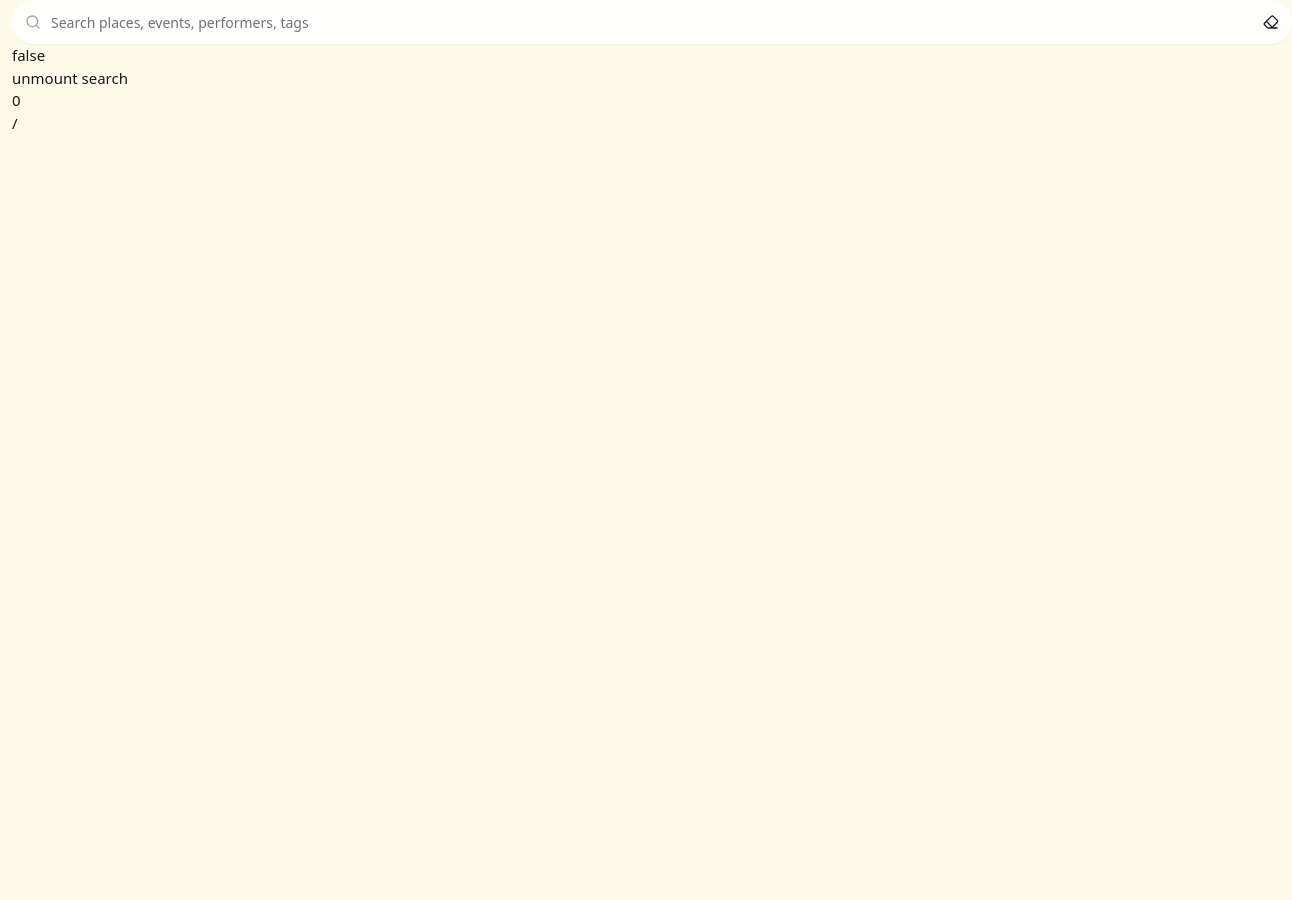
Scenario: SearchBar › focuses the place (its card opens) when picking on the map
Type "techno" into the dropdown labelled "Search" at coordinates (652, 22), box [49, 10, 1255, 34]
Wait 300 ms
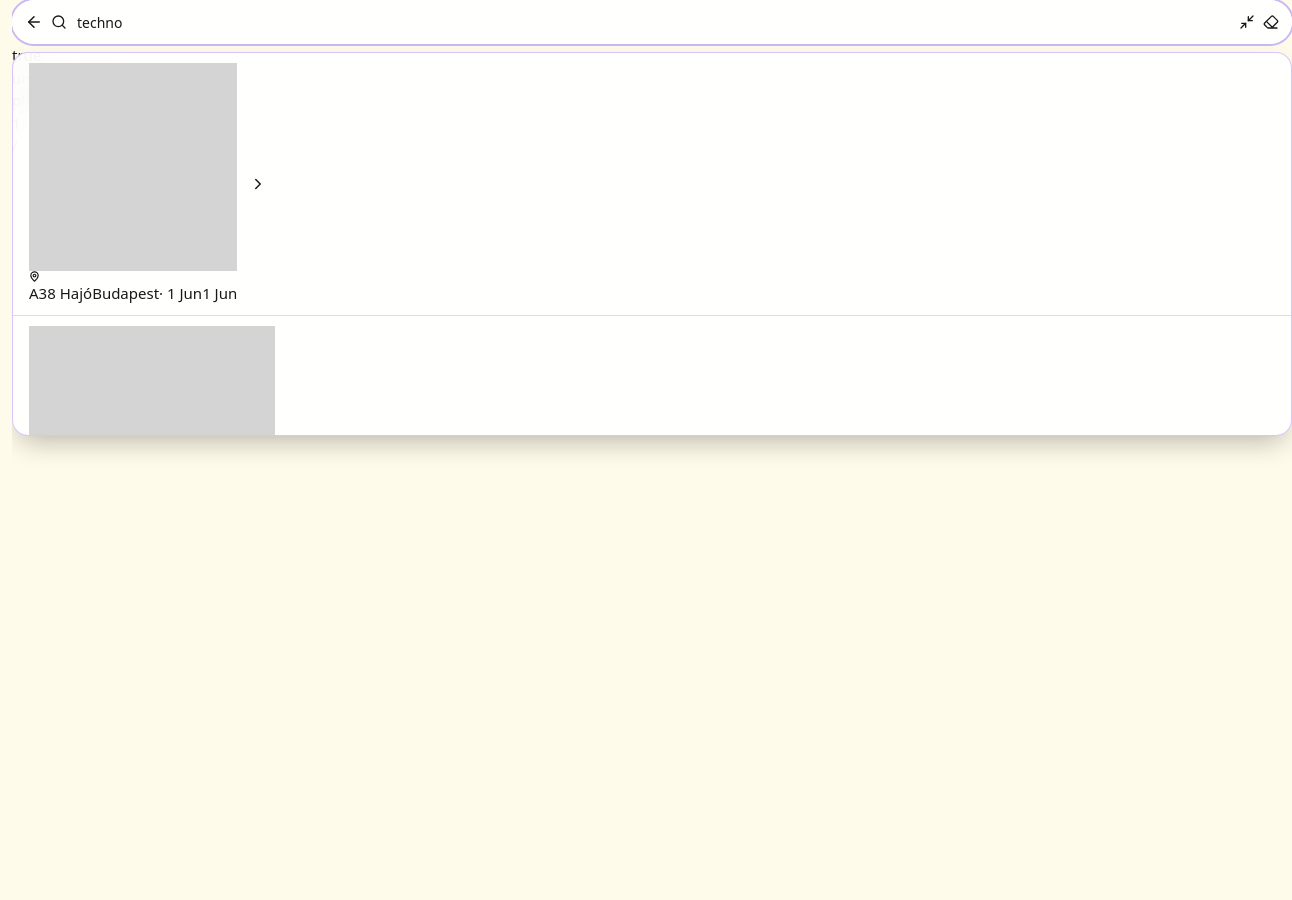
Click the option "Techno Night" at coordinates (652, 333), box [13, 315, 1291, 615]
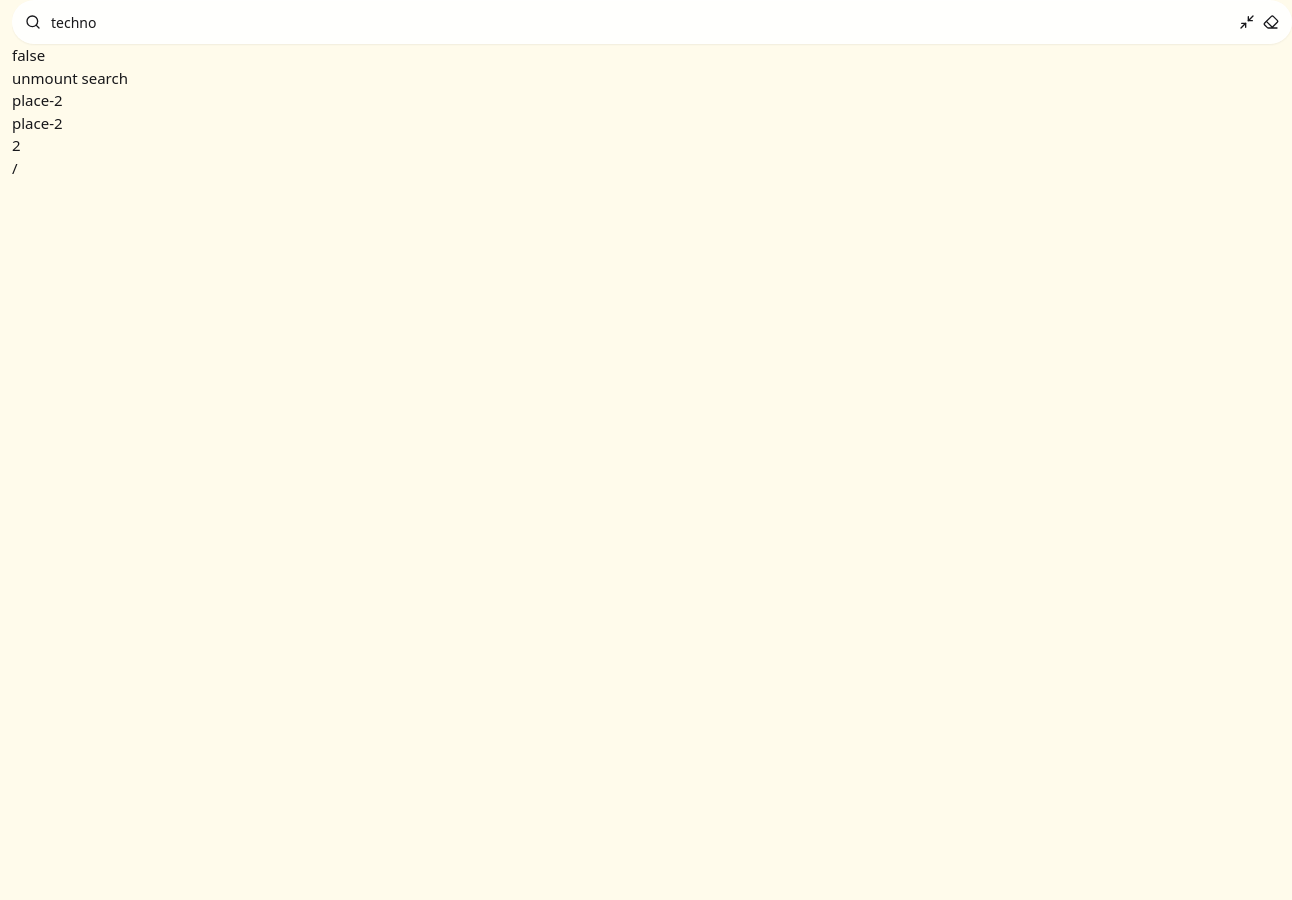
Check: the text with test id "highlight" reads "place-2", box [12, 90, 63, 110]
